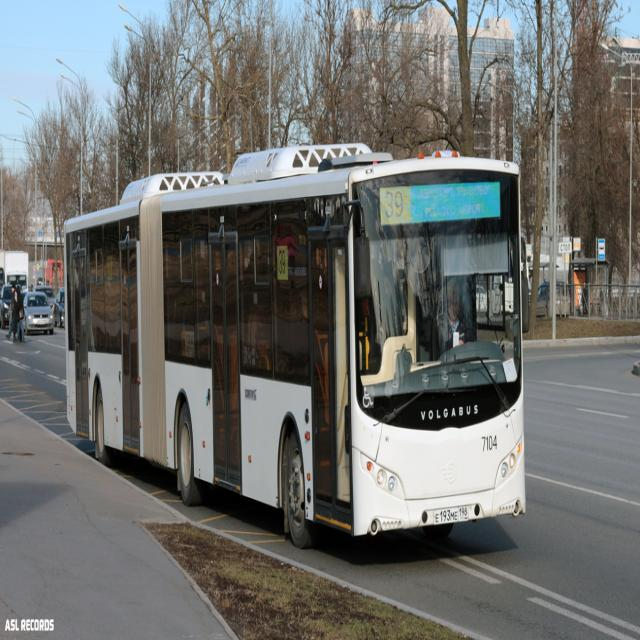number-of-bus: (383, 191, 409, 222), (278, 248, 289, 280)
